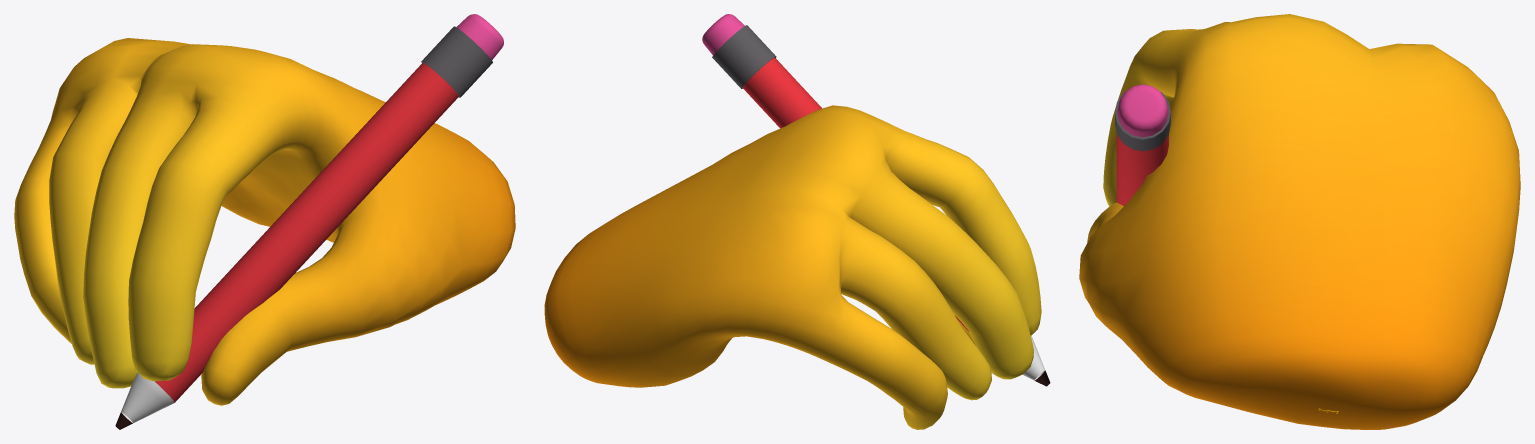
File: writing_hand.gltf
3 renders of one model, left to right at view 1: azimuth 30°, elevation 25°; view 2: azimuth 150°, elevation 25°; view 3: azimuth 270°, elevation 25°, orthographic. The views are drawn at different scales.
Parts seen in each view (by area): view 1: hand.053, Circle.269; view 2: hand.053, Circle.269; view 3: hand.053, Circle.269.
Part boxes in pixels (x1,y1,x2,y2): hand.053: (14, 38, 515, 405); Circle.269: (115, 14, 503, 429); hand.053: (544, 105, 1041, 429); Circle.269: (702, 14, 1050, 386); hand.053: (1079, 14, 1520, 429); Circle.269: (1115, 84, 1170, 205).
Bounding box in the file's own units: 1.73 × 1.2 × 1.41.
Materials: 7 (2 with a texture image).
